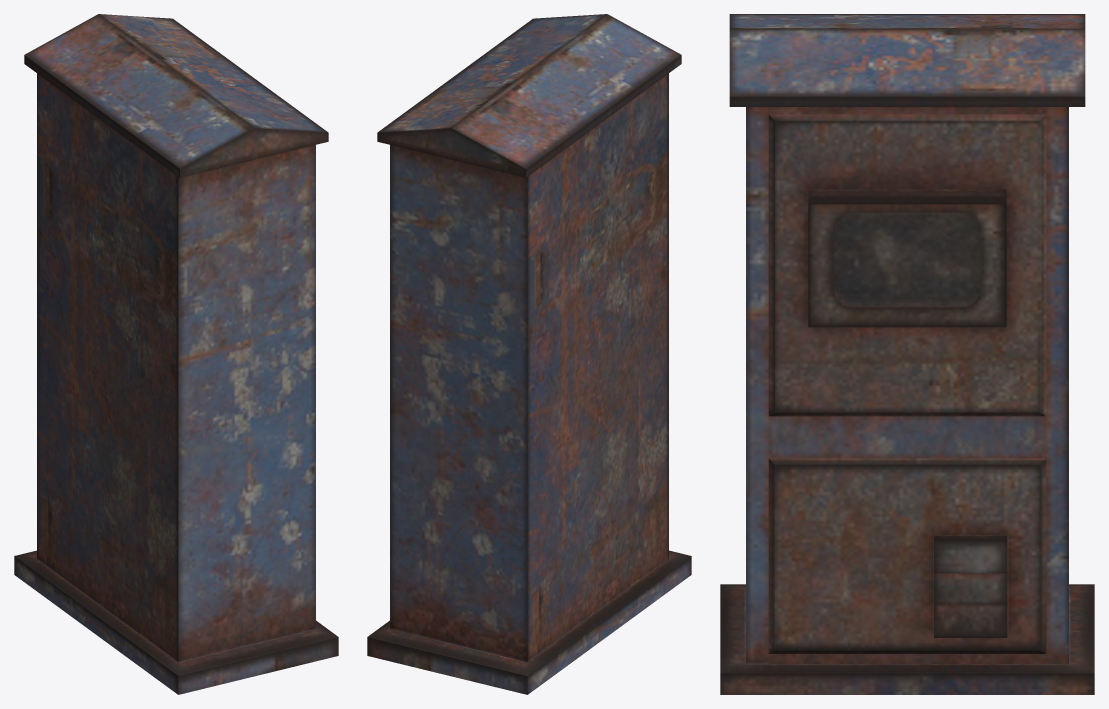
Rendered from ElectricBox_L.FBX.
The picture shows the model from 3 angles, left to right: view 1: azimuth 30°, elevation 25°; view 2: azimuth 150°, elevation 25°; view 3: azimuth 270°, elevation 25°; orthographic projection. The views are drawn at different scales.
Visible parts, largest first — view 1: ElectricBox_L; view 2: ElectricBox_L; view 3: ElectricBox_L.
Part boxes in pixels (x1,y1,x2,y2): ElectricBox_L: (14, 14, 338, 694); ElectricBox_L: (367, 14, 691, 694); ElectricBox_L: (720, 14, 1094, 694).
Size of the model in its own units: 63.06 by 197 by 108.
